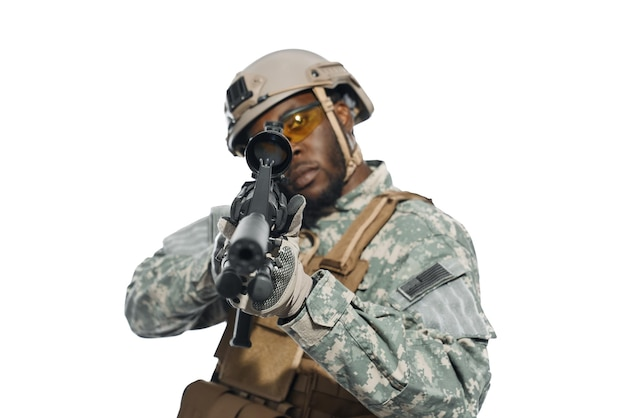gun: (221, 120, 301, 349)
